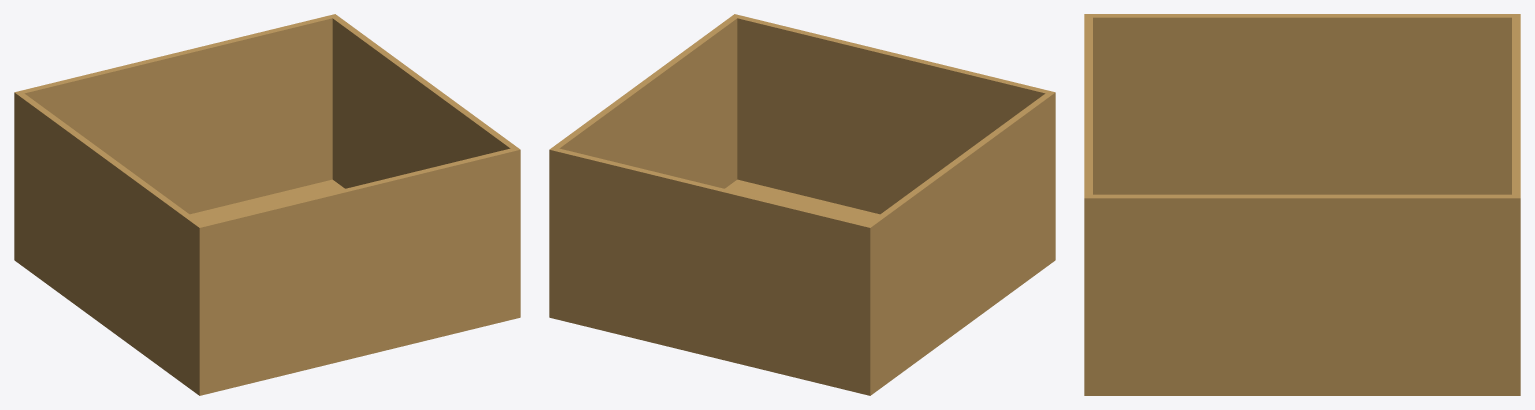
The model's file is simpleBox_50_50_25.dae.
3 renders of one model, left to right at view 1: azimuth 30°, elevation 25°; view 2: azimuth 150°, elevation 25°; view 3: azimuth 270°, elevation 25°, orthographic. The views are drawn at different scales.
Visible parts, largest first — view 1: SketchUp, SketchUp_001; view 2: SketchUp, SketchUp_001; view 3: SketchUp, SketchUp_001.
Boxes of the visible parts, x1,y1,x2,y2 form: SketchUp: [14, 14, 520, 395]; SketchUp_001: [24, 18, 510, 223]; SketchUp: [549, 14, 1055, 395]; SketchUp_001: [559, 18, 1045, 223]; SketchUp: [1084, 14, 1520, 395]; SketchUp_001: [1093, 17, 1511, 194].
Size of the model in its own units: 0.5 by 0.5 by 0.25.
